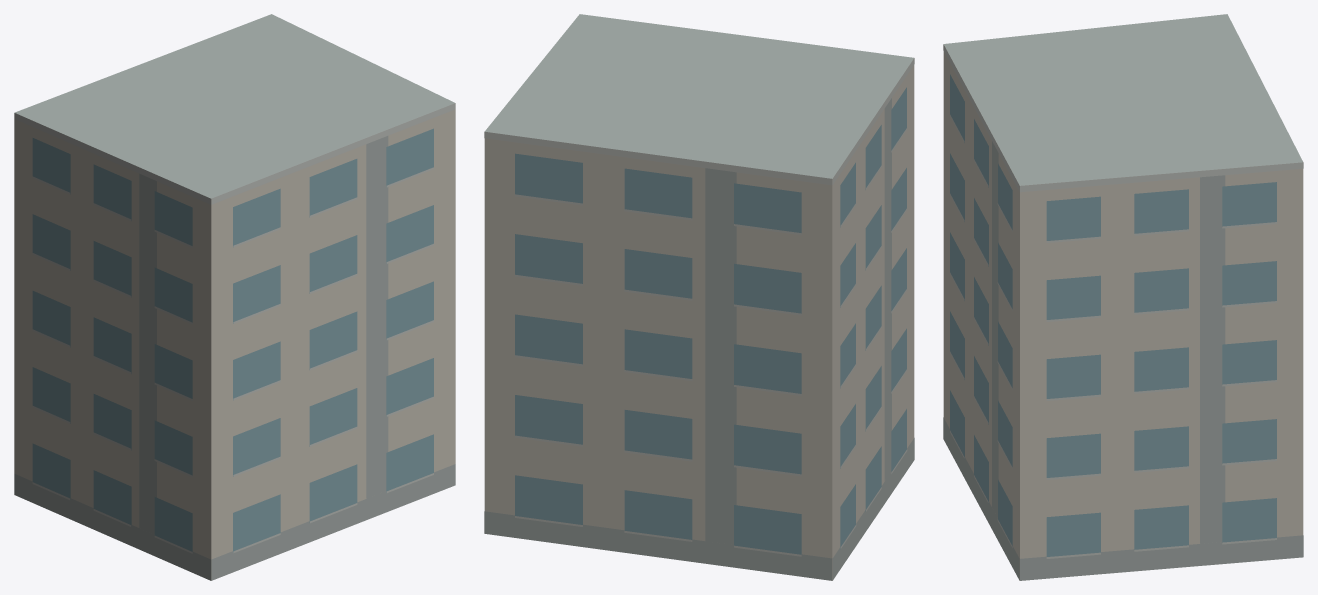
Rendered from survey-upis-32808293.glb.
3 renders of one model, left to right at view 1: azimuth 30°, elevation 25°; view 2: azimuth 150°, elevation 25°; view 3: azimuth 270°, elevation 25°, orthographic. The views are drawn at different scales.
Parts seen in each view (by area): view 1: survey-upis-32808293.tmp; view 2: survey-upis-32808293.tmp; view 3: survey-upis-32808293.tmp.
Part boxes in pixels (<box>): survey-upis-32808293.tmp: <box>14,14,455,580</box>; survey-upis-32808293.tmp: <box>484,14,914,580</box>; survey-upis-32808293.tmp: <box>943,14,1303,580</box>.
Size of the model in its own units: 14.05 by 15.05 by 12.44.
